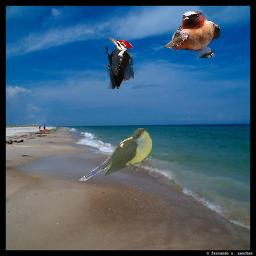Cuckoo: (78, 128, 152, 181)
Swallow: (164, 11, 220, 58)
Woodpecker: (103, 37, 134, 89)
